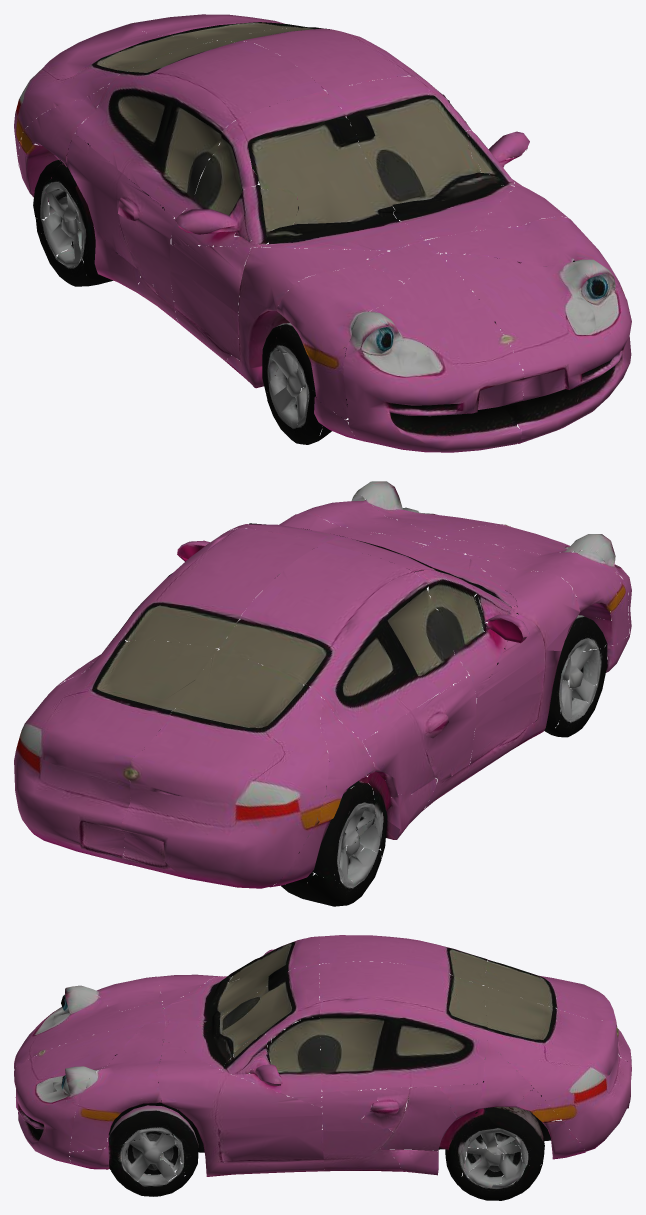
Rendered from coche_rosa.glb.
The picture shows the model from 3 angles, top to bottom: view 1: azimuth 30°, elevation 25°; view 2: azimuth 150°, elevation 25°; view 3: azimuth 270°, elevation 25°; orthographic projection. The views are drawn at different scales.
Parts seen in each view (by area): view 1: tripo_node_4d4458b0-1f29-484b-a0dd-911d24f42337; view 2: tripo_node_4d4458b0-1f29-484b-a0dd-911d24f42337; view 3: tripo_node_4d4458b0-1f29-484b-a0dd-911d24f42337.
Part boxes in pixels (x1,y1,x2,y2): tripo_node_4d4458b0-1f29-484b-a0dd-911d24f42337: (14,14,631,452); tripo_node_4d4458b0-1f29-484b-a0dd-911d24f42337: (14,481,631,906); tripo_node_4d4458b0-1f29-484b-a0dd-911d24f42337: (14,935,631,1200).
Size of the model in its own units: 0.4993 by 0.3367 by 0.9999.
Materials: 1 (1 with a texture image).
